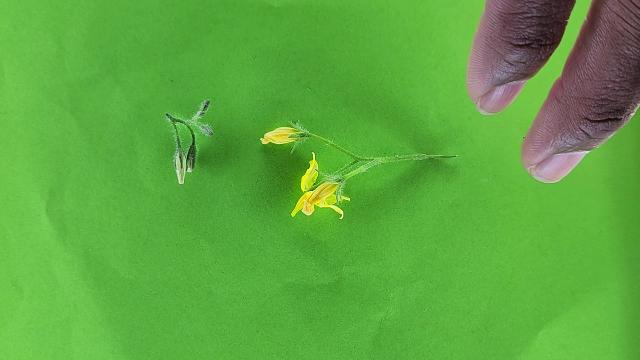Anthesis: (290, 152, 347, 220), (259, 122, 313, 149), (298, 152, 320, 195)
Flower Bud: (174, 147, 187, 185), (186, 140, 196, 172), (198, 124, 214, 136), (200, 99, 210, 112), (165, 113, 174, 121)
